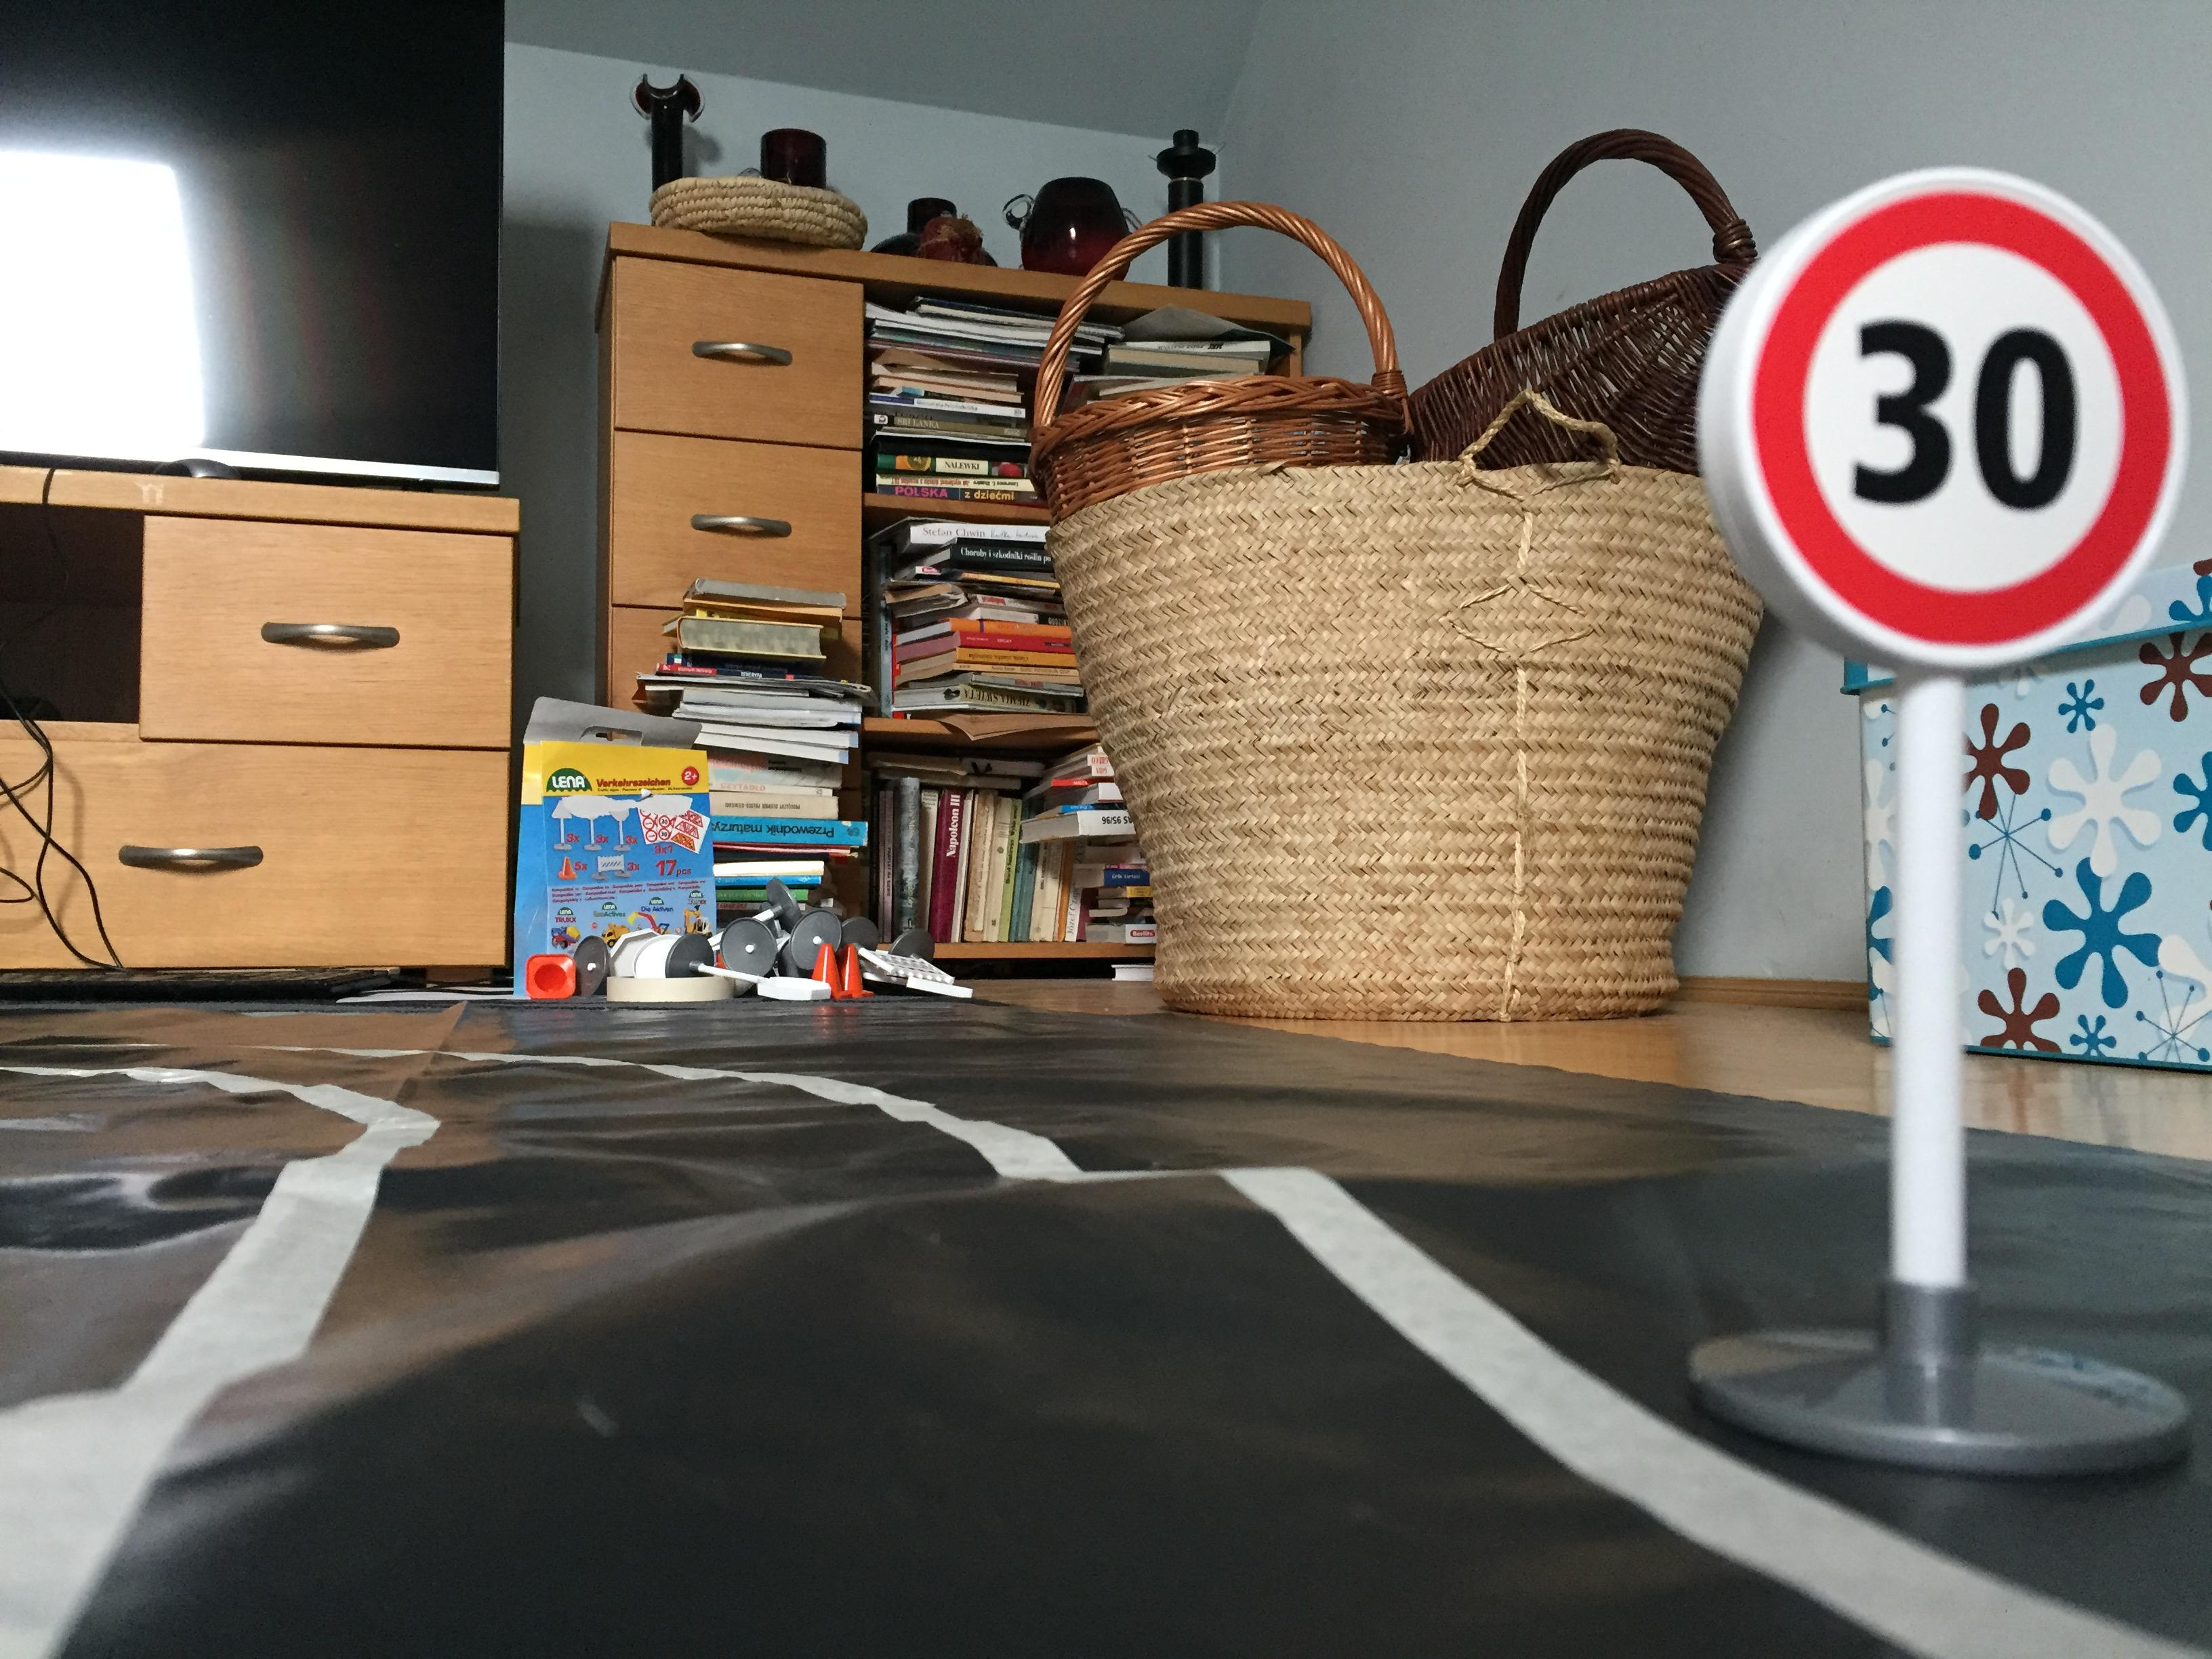speed: (1679, 155, 2200, 688)
